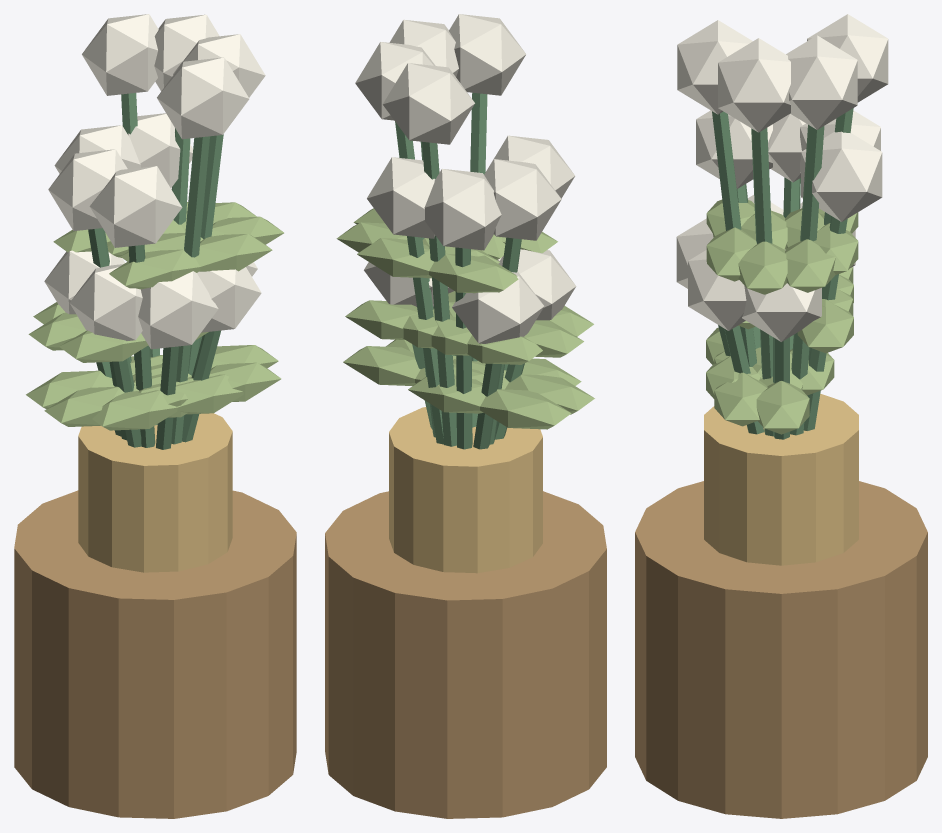
The model's file is vas_melati.glb.
3 renders of one model, left to right at view 1: azimuth 30°, elevation 25°; view 2: azimuth 150°, elevation 25°; view 3: azimuth 270°, elevation 25°, orthographic. The views are drawn at different scales.
Parts seen in each view (by area): view 1: VASE_BASE, VASE_NECK, JASMINE_FLOWER_11, JASMINE_FLOWER_1, JASMINE_FLOWER_2, JASMINE_FLOWER_6, JASMINE_FLOWER_9, JASMINE_FLOWER_4, JASMINE_STEM_11, JASMINE_FLOWER_3, JASMINE_FLOWER_10, JASMINE_FLOWER_5 (+26 smaller); view 2: VASE_BASE, VASE_NECK, JASMINE_FLOWER_2, JASMINE_FLOWER_7, JASMINE_FLOWER_11, JASMINE_FLOWER_4, JASMINE_FLOWER_12, JASMINE_FLOWER_10, JASMINE_FLOWER_5, LEAF_12_1, JASMINE_STEM_2, JASMINE_FLOWER_9 (+22 smaller); view 3: VASE_BASE, VASE_NECK, JASMINE_FLOWER_8, JASMINE_FLOWER_5, JASMINE_FLOWER_10, JASMINE_FLOWER_11, JASMINE_FLOWER_0, JASMINE_FLOWER_2, JASMINE_FLOWER_3, JASMINE_FLOWER_1, JASMINE_STEM_8, JASMINE_STEM_5 (+20 smaller).
Part boxes in pixels (<box>): VASE_BASE: <box>14,490,296,818</box>; VASE_NECK: <box>78,413,232,572</box>; JASMINE_FLOWER_11: <box>157,57,249,139</box>; JASMINE_FLOWER_1: <box>89,166,182,247</box>; JASMINE_FLOWER_2: <box>82,14,158,95</box>; JASMINE_FLOWER_6: <box>138,271,218,349</box>; JASMINE_FLOWER_9: <box>69,264,142,340</box>; JASMINE_FLOWER_4: <box>48,149,127,231</box>; JASMINE_STEM_11: <box>171,136,209,444</box>; JASMINE_FLOWER_3: <box>197,267,261,332</box>; JASMINE_FLOWER_10: <box>128,113,193,187</box>; JASMINE_FLOWER_5: <box>154,14,219,91</box>; VASE_BASE: <box>325,491,606,818</box>; VASE_NECK: <box>389,407,542,573</box>; JASMINE_FLOWER_2: <box>382,63,474,144</box>; JASMINE_FLOWER_7: <box>424,168,501,250</box>; JASMINE_FLOWER_11: <box>449,14,526,95</box>; JASMINE_FLOWER_4: <box>484,159,561,240</box>; JASMINE_FLOWER_12: <box>452,272,544,343</box>; JASMINE_FLOWER_10: <box>367,157,439,238</box>; JASMINE_FLOWER_5: <box>355,42,435,120</box>; LEAF_12_1: <box>480,389,571,429</box>; JASMINE_STEM_2: <box>422,142,456,446</box>; JASMINE_FLOWER_9: <box>498,249,576,320</box>; VASE_BASE: <box>635,481,927,818</box>; VASE_NECK: <box>704,393,858,565</box>; JASMINE_FLOWER_8: <box>718,38,790,132</box>; JASMINE_FLOWER_5: <box>786,35,857,129</box>; JASMINE_FLOWER_10: <box>801,131,882,221</box>; JASMINE_FLOWER_11: <box>677,20,752,114</box>; JASMINE_FLOWER_0: <box>742,249,821,341</box>; JASMINE_FLOWER_2: <box>807,14,888,102</box>; JASMINE_FLOWER_3: <box>688,250,746,330</box>; JASMINE_FLOWER_1: <box>696,110,772,188</box>; JASMINE_STEM_8: <box>751,128,773,436</box>; JASMINE_STEM_5: <box>790,124,824,435</box>.
Size of the model in its own units: 0.46 by 1.27 by 0.46.
